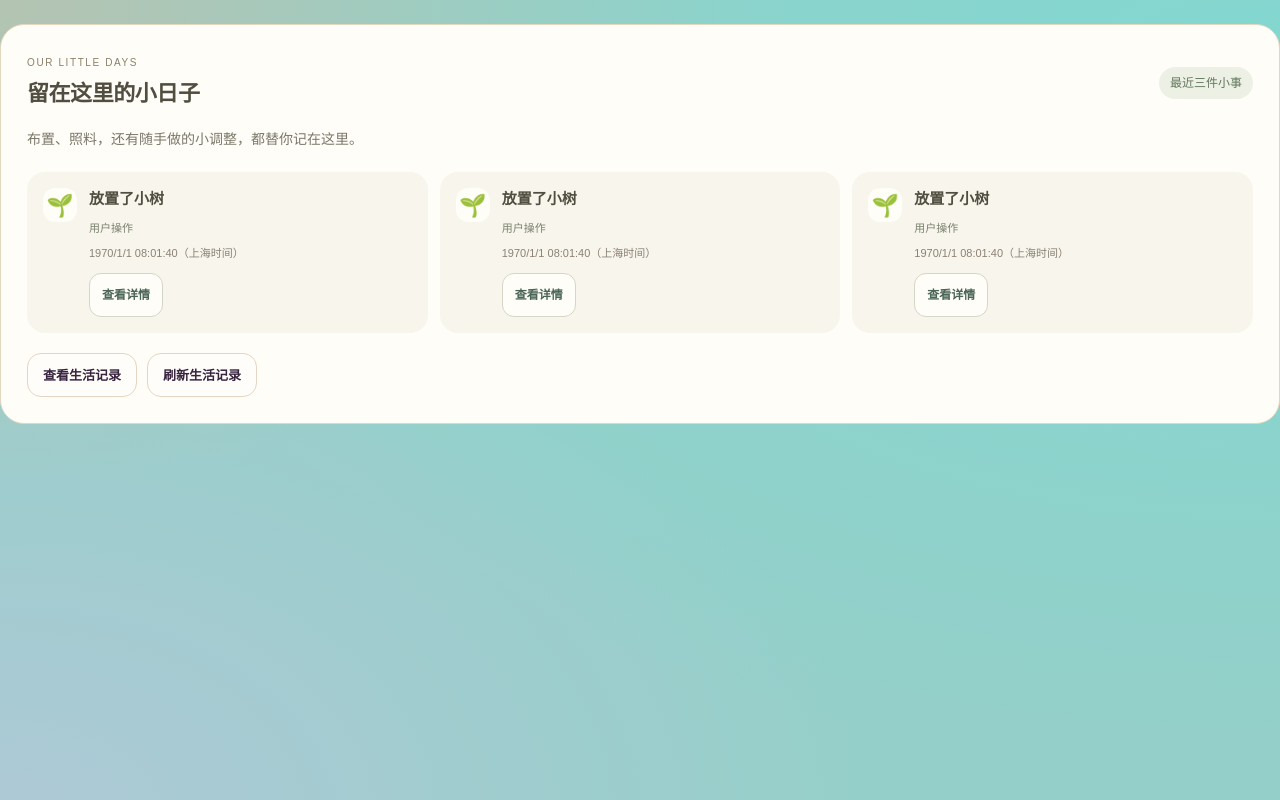
it: keeps loaded records on failure and reads again on confirmed scene revision
Expected: the button "查看生活记录" is shown, [27,354,137,398]
What coordinates should you click on to do the following:
click the button "刷新生活记录"
I would click on:
 (202, 376)
Its box is [147,354,257,398].
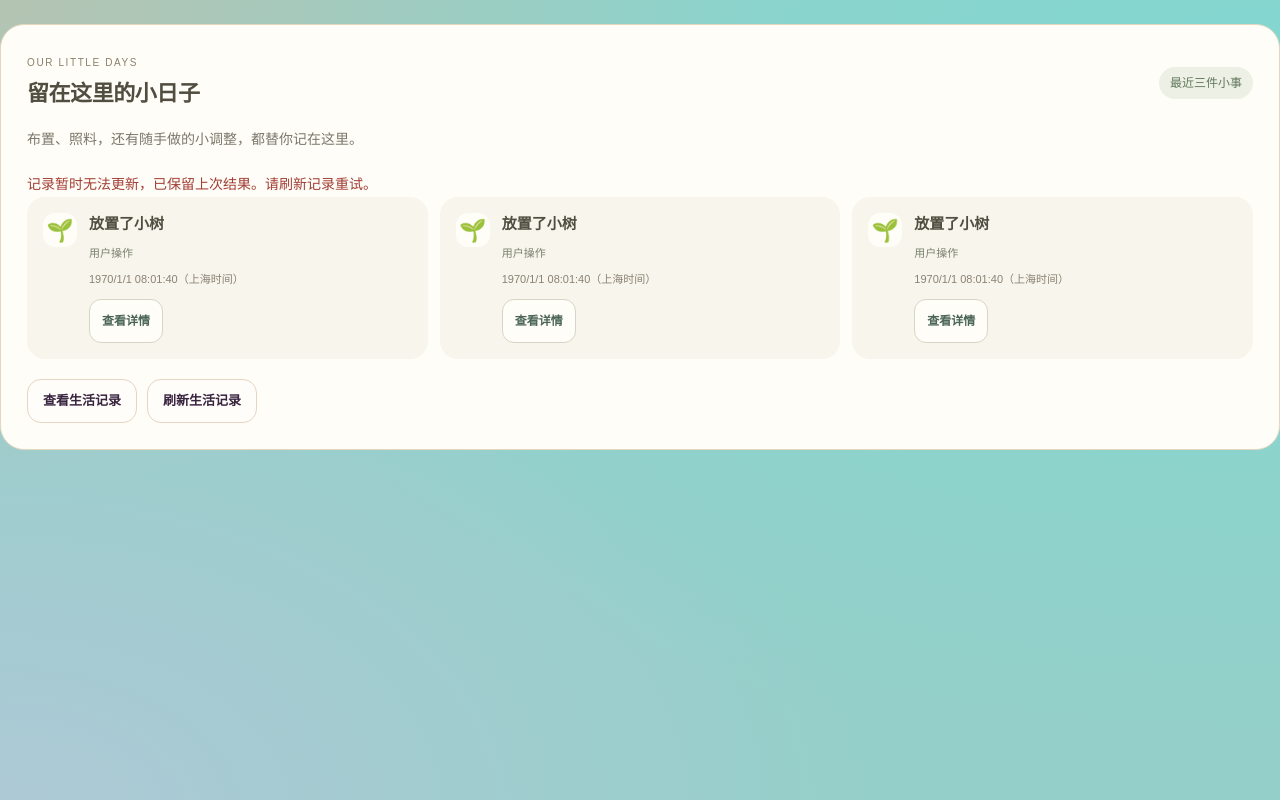
Expected: the text "用户操作" is shown 3 times, [89,247,133,259]; [502,247,546,259]; [914,247,958,259]
Now the message "记录暂时无法更新，已保留上次结果。请刷新记录重试。" is shown, box [27,176,377,192]
